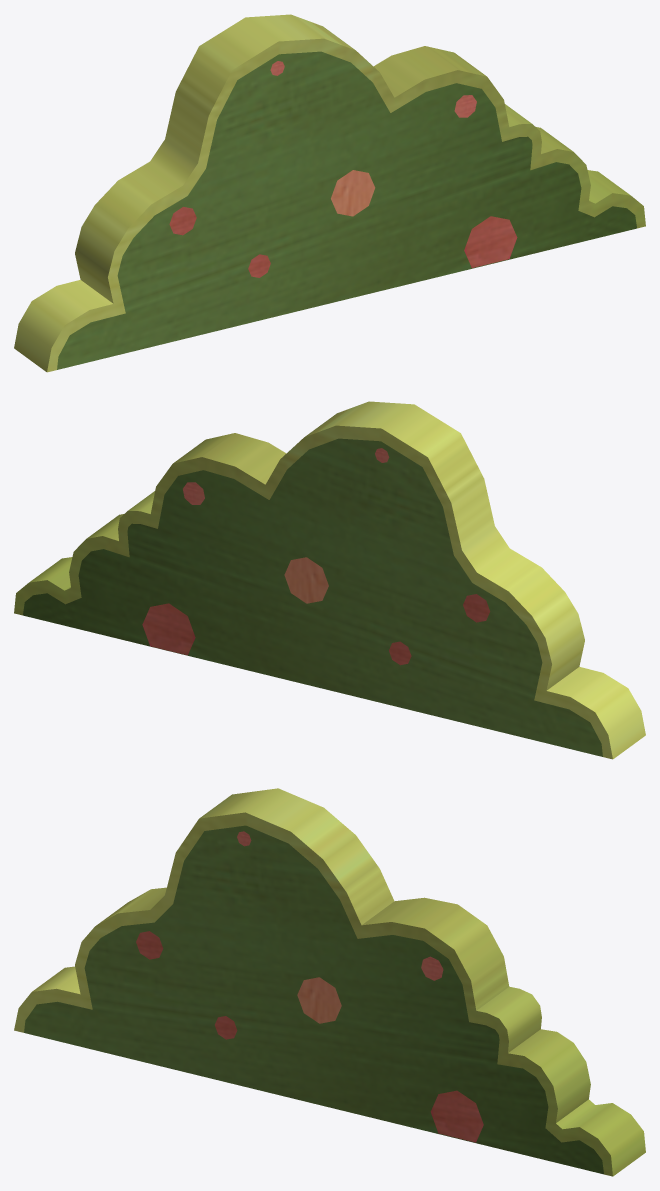
The model's file is Doll_OB_ToyTree_1.fbx.
3 views of the same model, one above another, from view 1: azimuth 30°, elevation 25°; view 2: azimuth 150°, elevation 25°; view 3: azimuth 330°, elevation 25° (orthographic).
Parts seen in each view (by area): view 1: Doll_OB_ToyTree_1; view 2: Doll_OB_ToyTree_1; view 3: Doll_OB_ToyTree_1.
Boxes of the visible parts, x1,y1,x2,y2 form: Doll_OB_ToyTree_1: (14,14,645,372); Doll_OB_ToyTree_1: (14,401,645,759); Doll_OB_ToyTree_1: (14,788,645,1176).
Bounding box in the file's own units: 25.53 × 11.18 × 2.49.
Materials: 1 (1 with a texture image).
